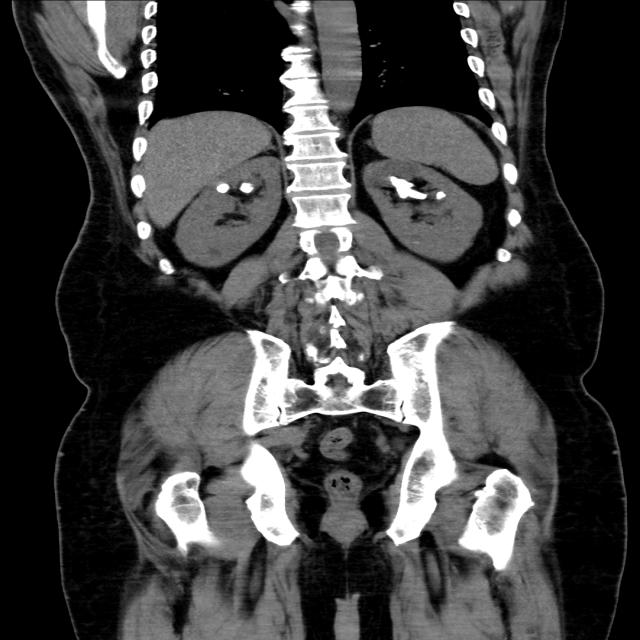kidneystone: (390, 176, 427, 200), (239, 182, 254, 194), (217, 182, 230, 194), (435, 191, 446, 200)
